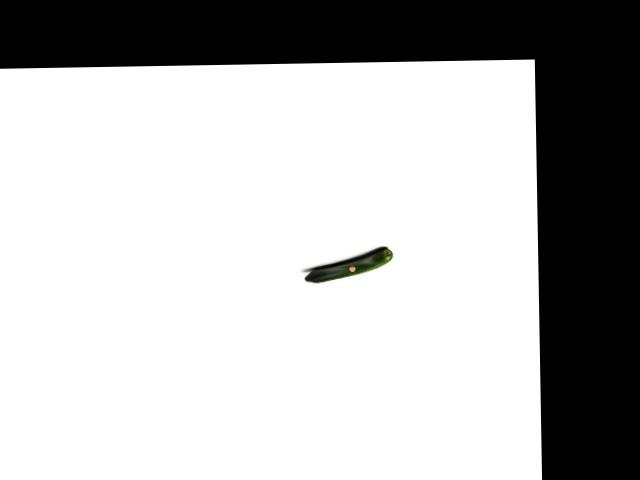cucumber: (304, 248, 394, 282)
